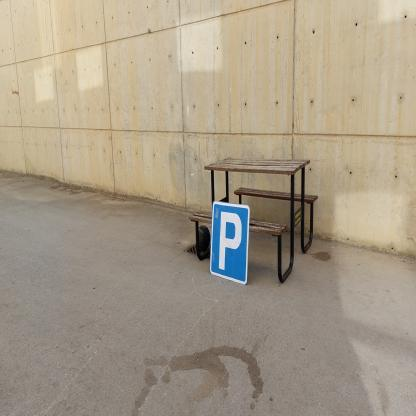parking: (209, 200, 250, 285)
